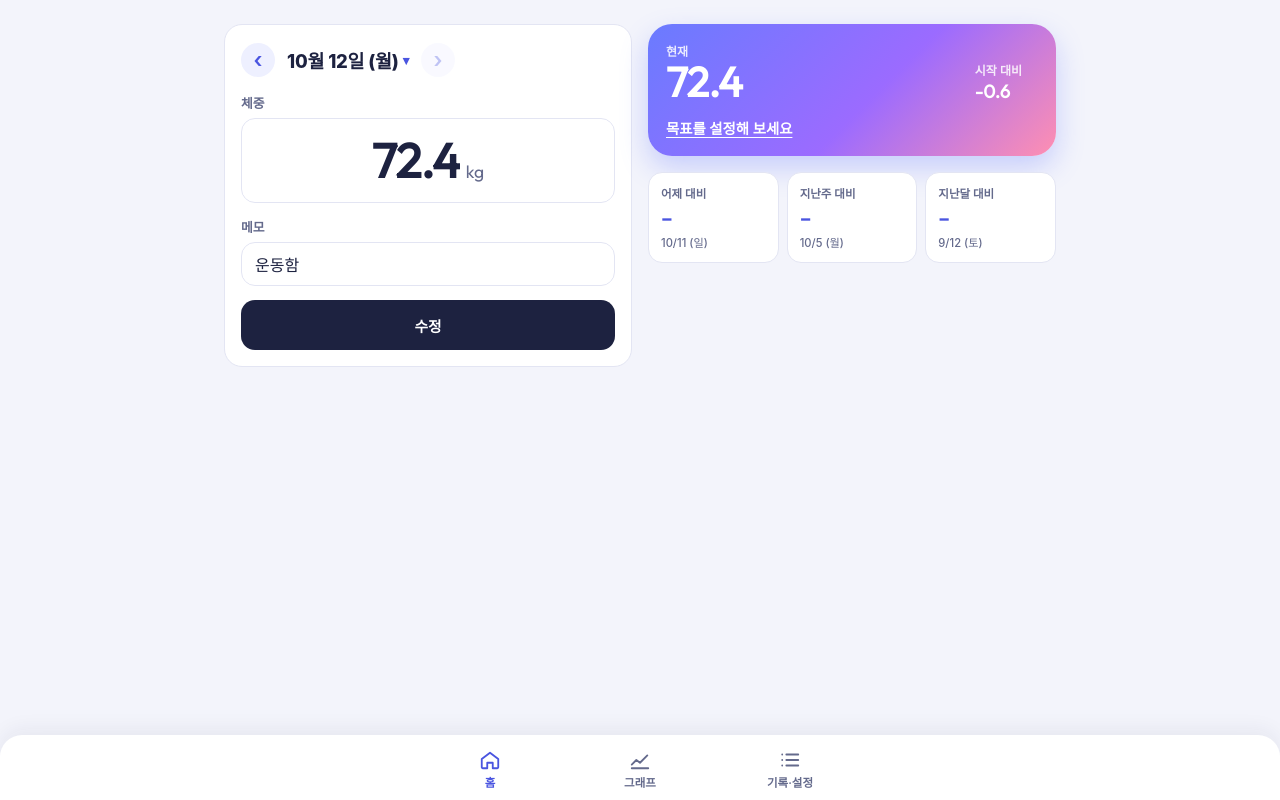
Test: history list › lists entries newest first with deltas and memos
Expected: the navigation bar is shown, [0, 735, 1279, 799]
What coordinates should you click on to do the following:
click the button "기록·설정"
I would click on:
 (790, 770)
Its box is [715, 741, 865, 799].
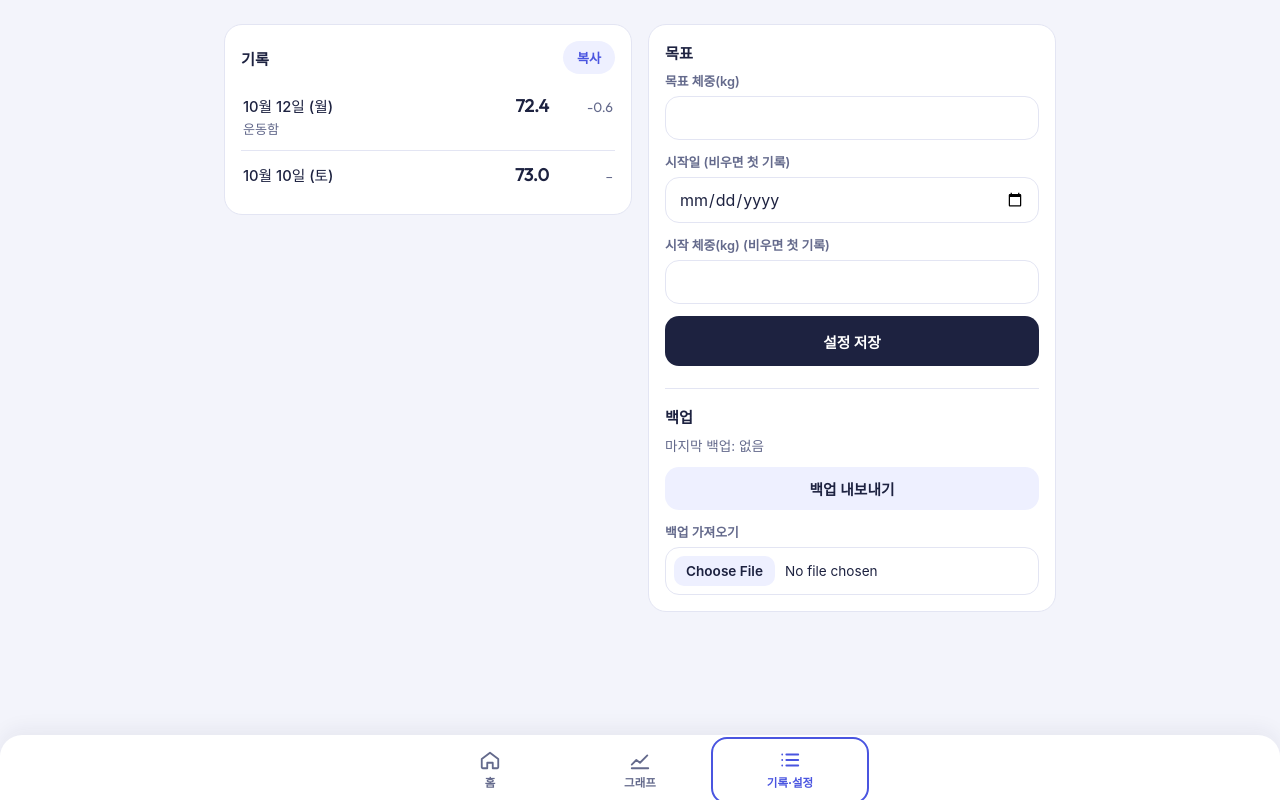
Now the list item "10월 12일 (월) 72.4 -0.6 운동함" is shown, box [241, 82, 615, 150]
Now the list item "10월 10일 (토) 73.0 –" is shown, box [241, 150, 615, 198]
